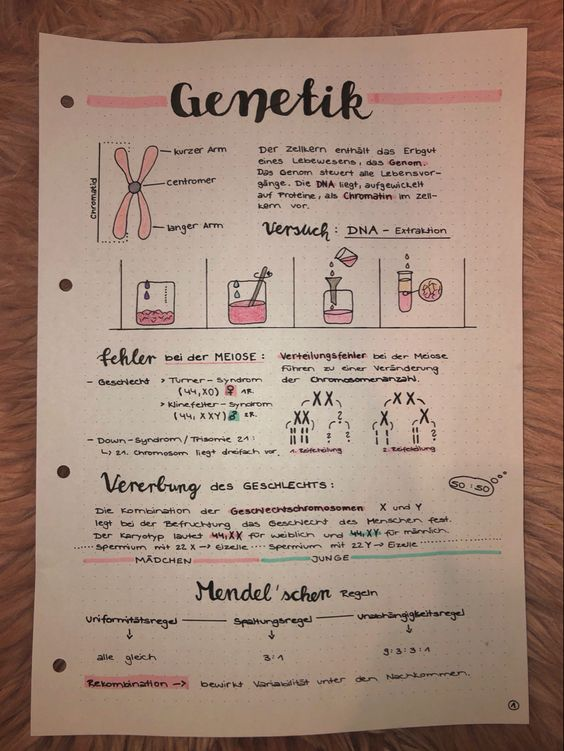page: (42, 43, 527, 723)
